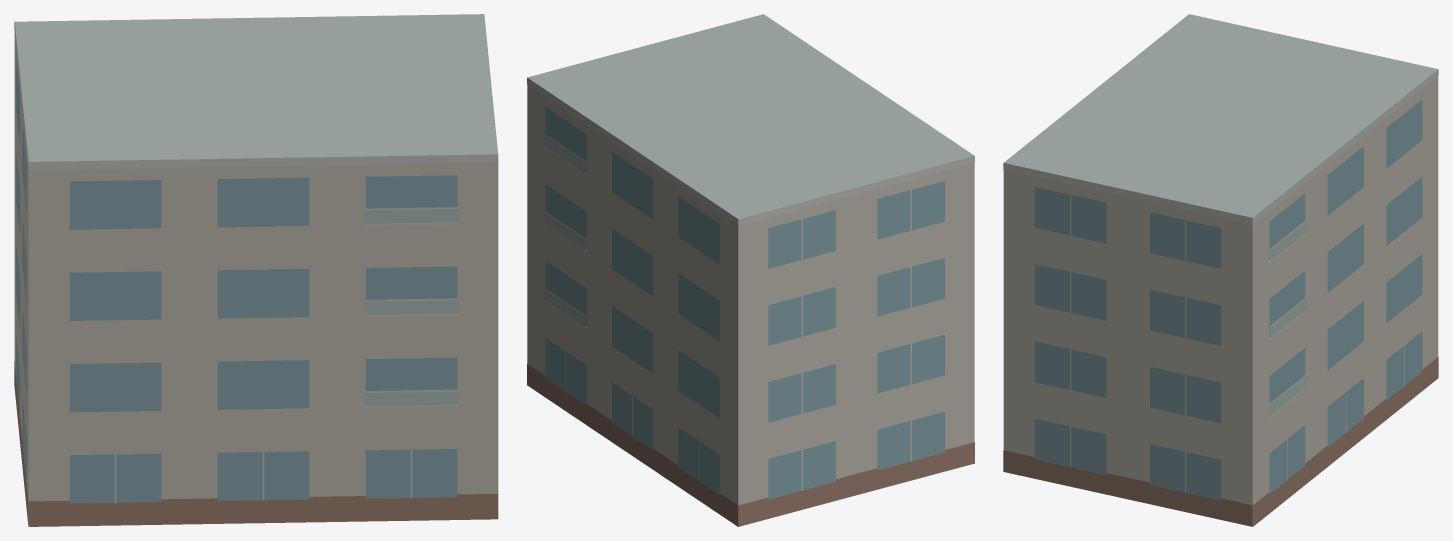
The model's file is survey-upis-32693715.glb.
3 renders of one model, left to right at view 1: azimuth 30°, elevation 25°; view 2: azimuth 150°, elevation 25°; view 3: azimuth 270°, elevation 25°, orthographic. The views are drawn at different scales.
Parts seen in each view (by area): view 1: survey-upis-32693715.tmp; view 2: survey-upis-32693715.tmp; view 3: survey-upis-32693715.tmp.
Part boxes in pixels (x1,y1,x2,y2): survey-upis-32693715.tmp: (14, 14, 498, 526); survey-upis-32693715.tmp: (527, 14, 974, 526); survey-upis-32693715.tmp: (1003, 14, 1438, 526).
Bounding box in the file's own units: 15.57 × 11 × 14.04.
